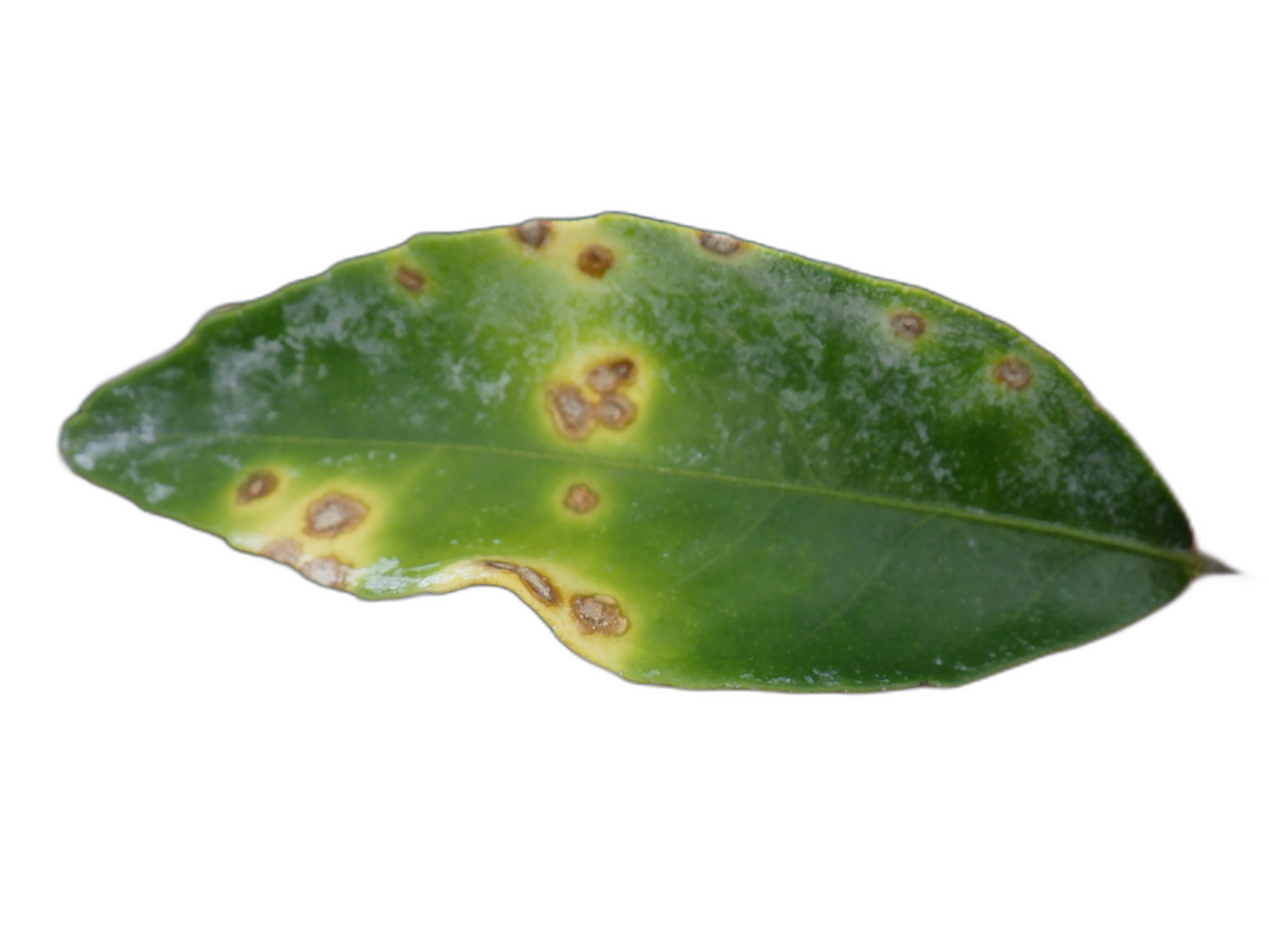Canker: (473, 559, 566, 609), (301, 485, 372, 540), (540, 380, 600, 442), (571, 589, 633, 640), (582, 347, 643, 396), (566, 239, 618, 279), (302, 555, 354, 591), (593, 396, 643, 433), (235, 468, 283, 506), (511, 219, 563, 252), (560, 478, 602, 516), (884, 306, 928, 340), (694, 231, 747, 257), (257, 539, 304, 566), (992, 357, 1030, 389), (394, 265, 424, 290)
